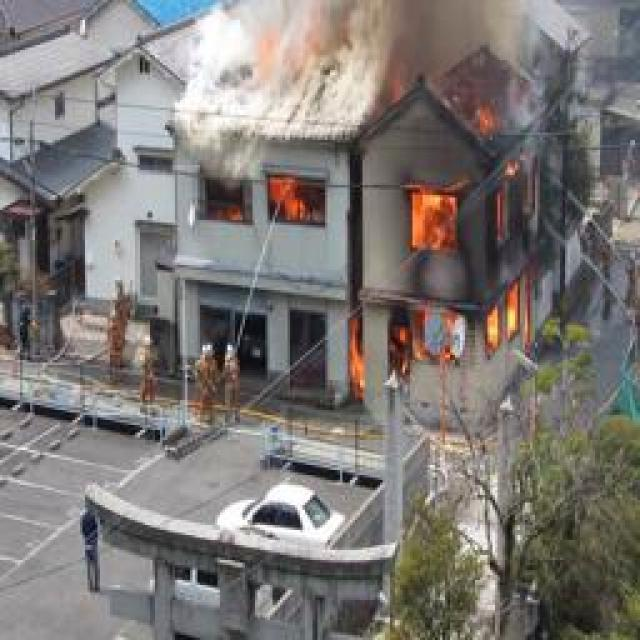Fire: (345, 111, 569, 397), (224, 161, 340, 242)
